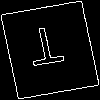T: (24, 25, 68, 76)
